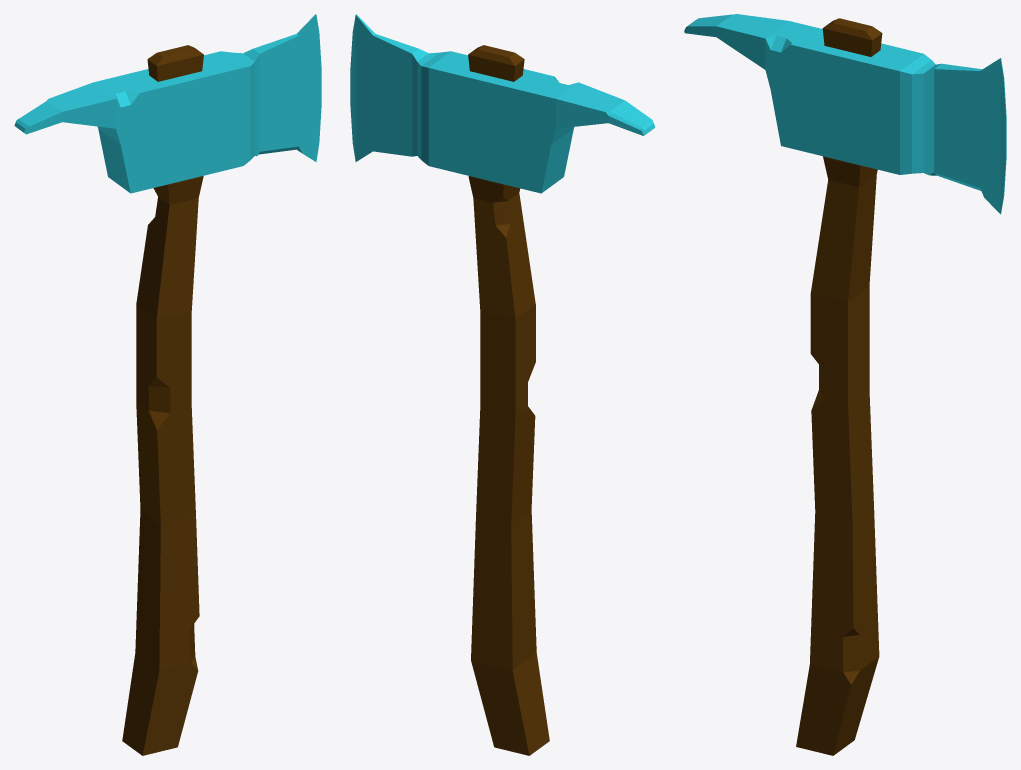
The model's file is Axe.glb.
3 views of the same model, side by side, from view 1: azimuth 30°, elevation 25°; view 2: azimuth 150°, elevation 25°; view 3: azimuth 330°, elevation 25° (orthographic). The views are drawn at different scales.
Parts seen in each view (by area): view 1: Cube; view 2: Cube; view 3: Cube.
Part boxes in pixels (x1,y1,x2,y2): Cube: (14,14,321,755); Cube: (350,14,655,755); Cube: (684,14,1006,755).
Bounding box in the file's own units: 1.9 × 4.15 × 0.263.
